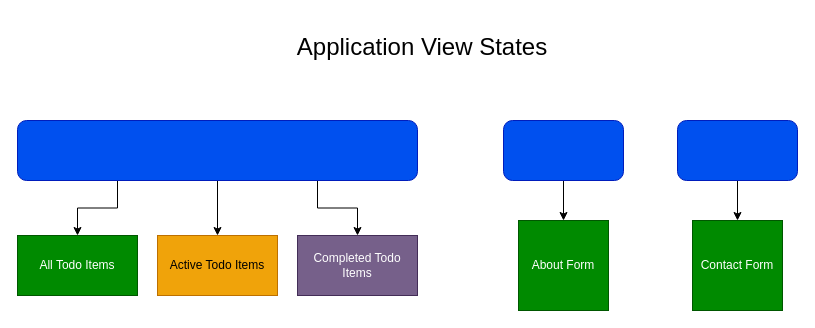
The diagram is 815 pixels wide and 328 high, and some of its shapes have lost their labels. The shapes that lost their labels are listed below. From the top down, each one's centre as x and y in pixels, then its label:
At point (217, 150): "Todo View".
At point (563, 150): "About View".
At point (737, 150): "Contact View".
